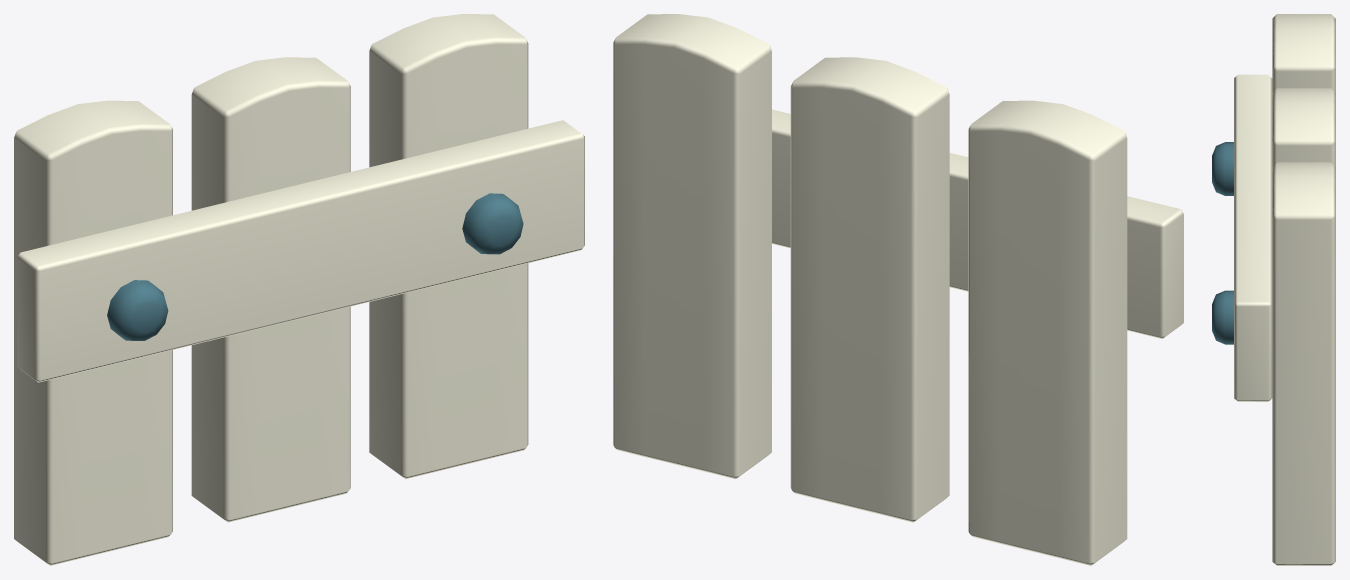
File: Town_5_Fence_1.glb
3 renders of one model, left to right at view 1: azimuth 30°, elevation 25°; view 2: azimuth 150°, elevation 25°; view 3: azimuth 270°, elevation 25°, orthographic. The views are drawn at different scales.
Parts seen in each view (by area): view 1: Town_5_Fence_1; view 2: Town_5_Fence_1; view 3: Town_5_Fence_1.
Part boxes in pixels (x1,y1,x2,y2): Town_5_Fence_1: [14, 14, 584, 565]; Town_5_Fence_1: [613, 14, 1183, 565]; Town_5_Fence_1: [1212, 14, 1335, 565].
Size of the model in its own units: 1.33 by 0.9814 by 0.3029.
1 material, 1 textured.
